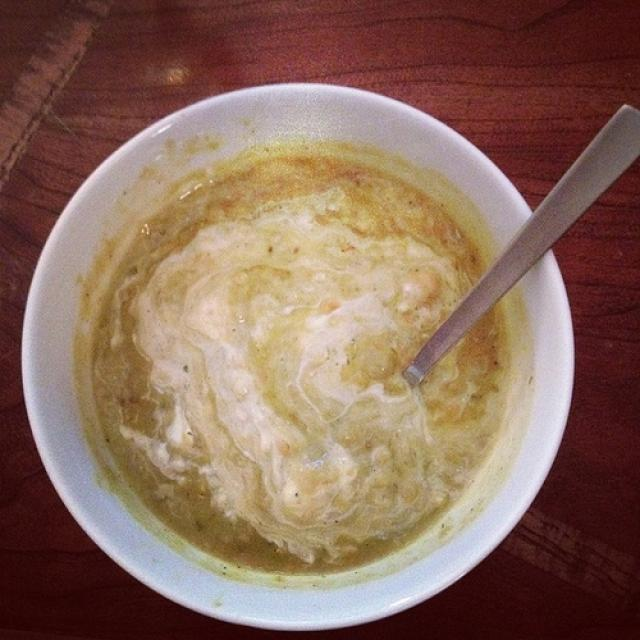汤锅炖物: (59, 111, 544, 594)
